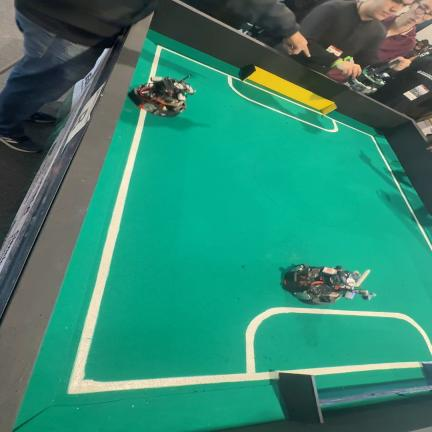cancha: (14, 31, 432, 432)
limites: (68, 110, 432, 394), (149, 45, 432, 251), (246, 82, 318, 115), (282, 362, 420, 376)
porteria: (278, 372, 432, 423), (239, 65, 336, 115), (420, 362, 432, 380)
robot: (282, 264, 375, 305), (128, 75, 194, 118), (346, 59, 400, 94)
